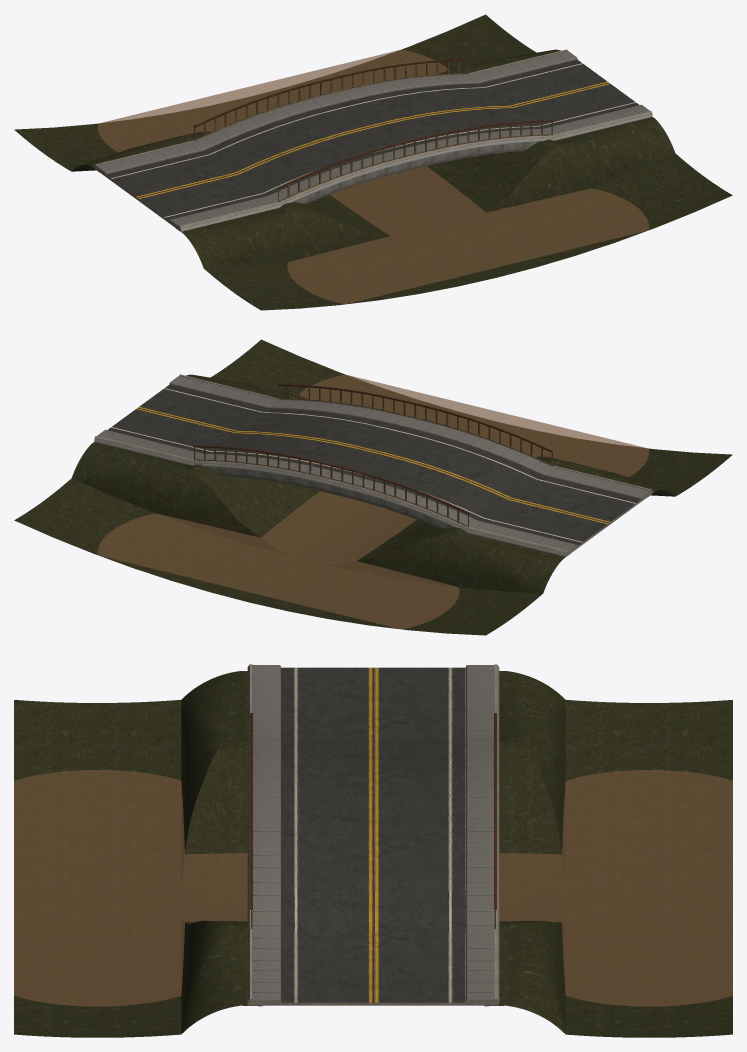
File: american_road_bridge.glb
The picture shows the model from 3 angles, top to bottom: view 1: azimuth 30°, elevation 25°; view 2: azimuth 150°, elevation 25°; view 3: azimuth 270°, elevation 25°; orthographic projection. The views are drawn at different scales.
Visible parts, largest first — view 1: Material2 (×9); view 2: Material2 (×9); view 3: Material2 (×6).
Boxes of the visible parts, x1,y1,x2,y2 form: Material2 (×9): (14,14,732,310); Material2 (×9): (14,339,732,635); Material2 (×6): (14,664,732,1037).
Bounding box in the file's own units: 1337 × 217 × 1213.
9 materials, 9 textured.
